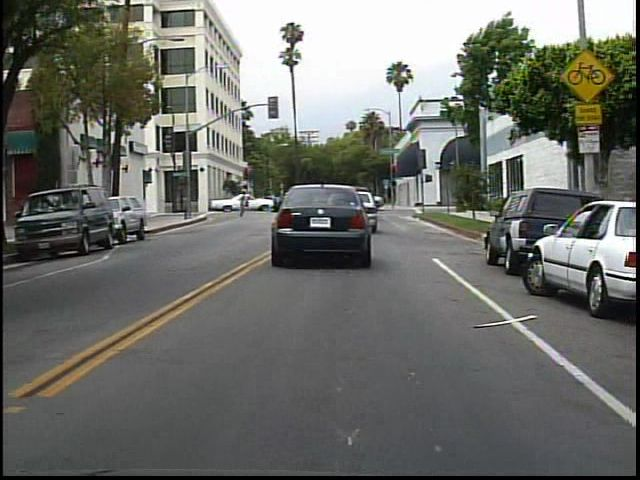car: (536, 192, 637, 314), (268, 179, 378, 275), (482, 187, 584, 274), (12, 182, 113, 262), (105, 194, 149, 243)
strada: (7, 286, 639, 480)
